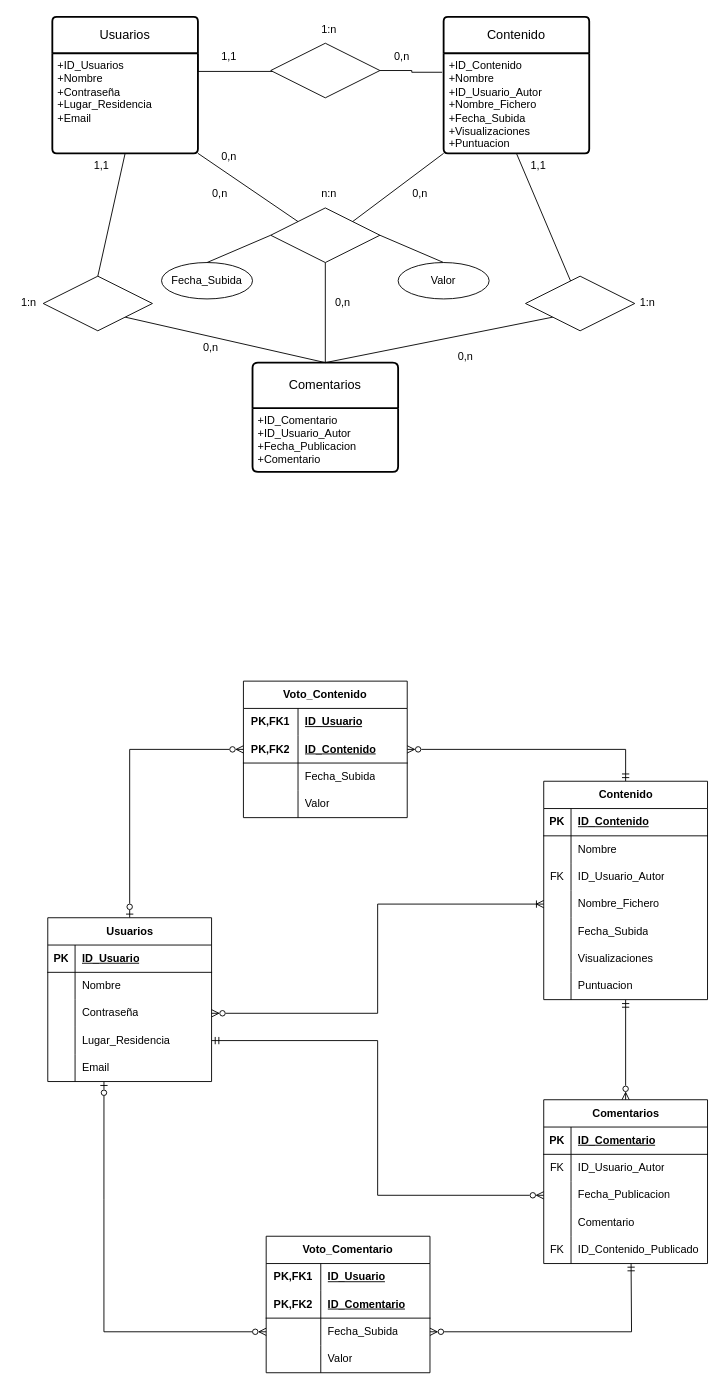
Image size: 723x1389. Some labels were removed from this diagram. Here are the shapes that lost their labels. From the top down, the centre of each, then its label:
the point at 325,70: Publican
the point at 325,235: Vota
the point at 97,303: Escribe
the point at 580,303: Contiene
